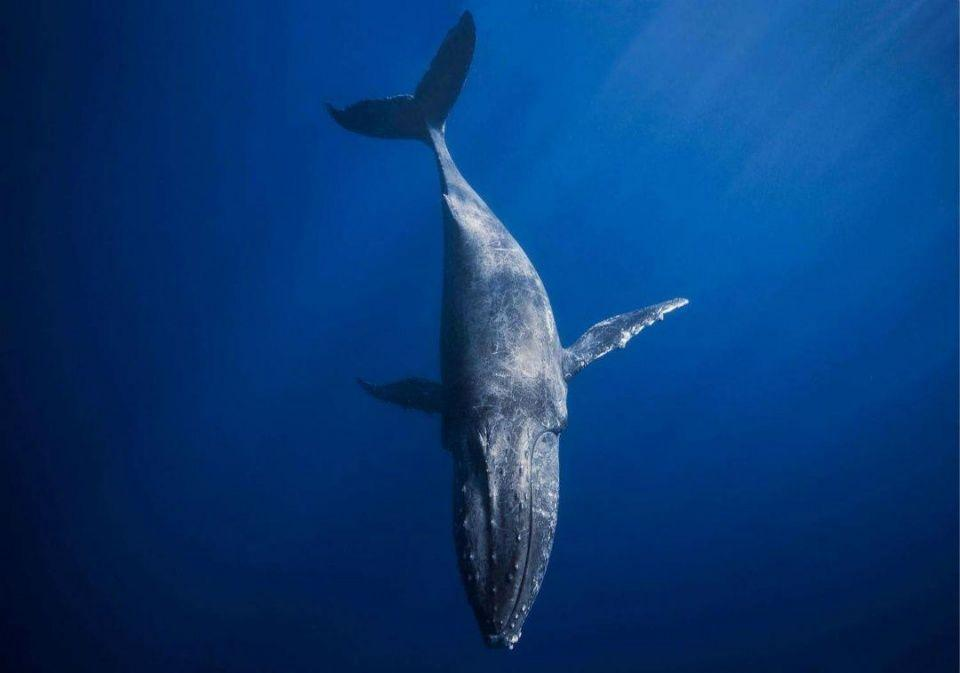fish: (309, 11, 692, 659)
